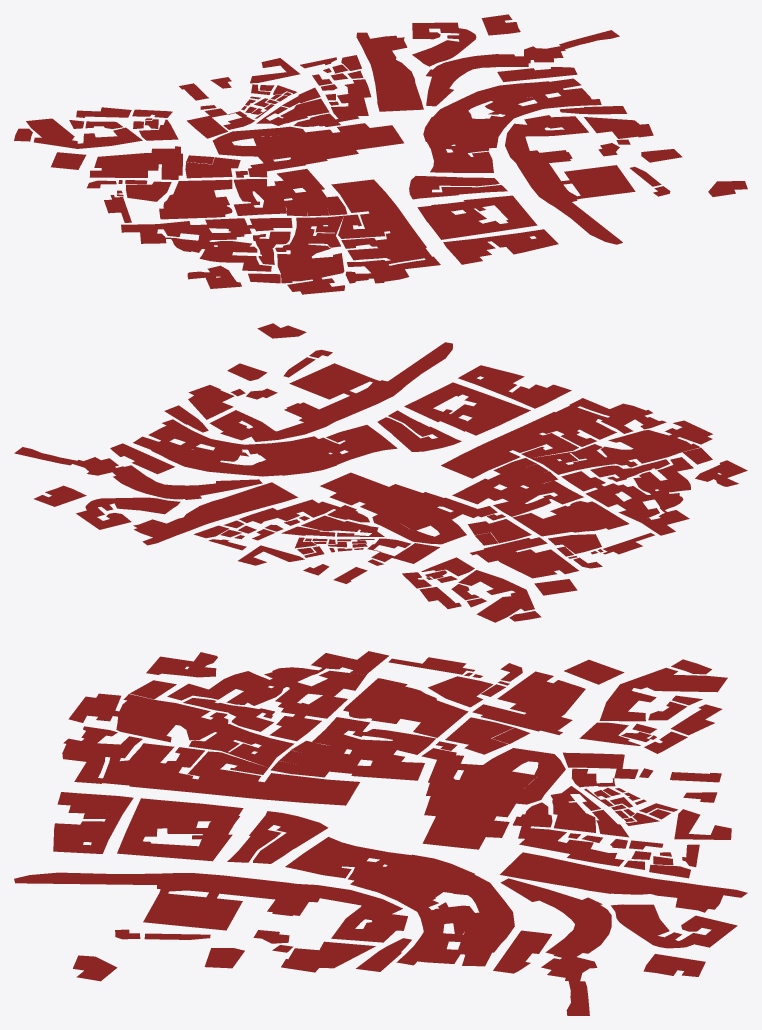
The model's file is Perugia_building_2D_Map.fbx.
The picture shows the model from 3 angles, top to bottom: view 1: azimuth 30°, elevation 25°; view 2: azimuth 150°, elevation 25°; view 3: azimuth 270°, elevation 25°; orthographic projection. The views are drawn at different scales.
Visible parts, largest first — view 1: map_11.osm_buildings; view 2: map_11.osm_buildings; view 3: map_11.osm_buildings.
Boxes of the visible parts, x1,y1,x2,y2 form: map_11.osm_buildings: (14,14,747,294); map_11.osm_buildings: (14,323,747,622); map_11.osm_buildings: (14,651,747,1015).
Size of the model in its own units: 45677 by 0.00633 by 38834.
